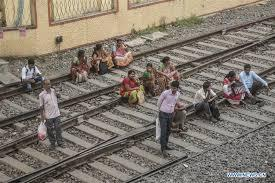person: (38, 77, 68, 151), (156, 79, 182, 159), (192, 79, 224, 125), (119, 69, 146, 109), (242, 64, 265, 106), (21, 59, 45, 94), (223, 70, 245, 107), (70, 49, 93, 84), (91, 43, 114, 76), (143, 62, 164, 98), (114, 38, 134, 69), (160, 56, 181, 83)
